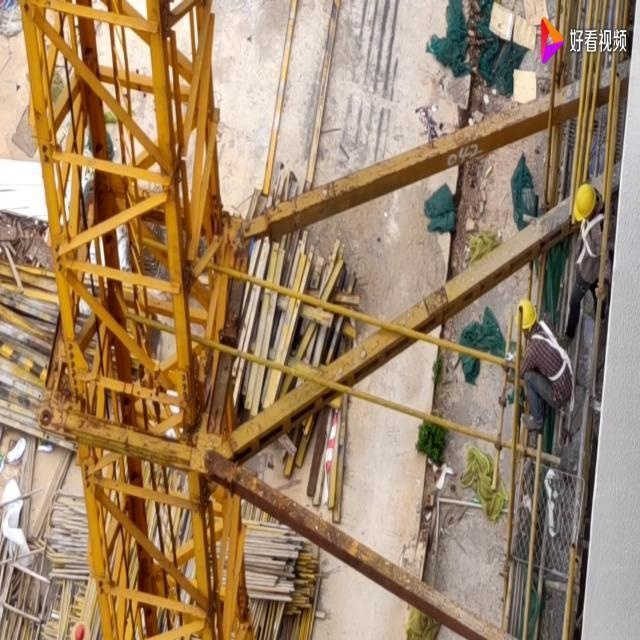Arnes_seguridad: (530, 317, 570, 384), (579, 206, 605, 260)
